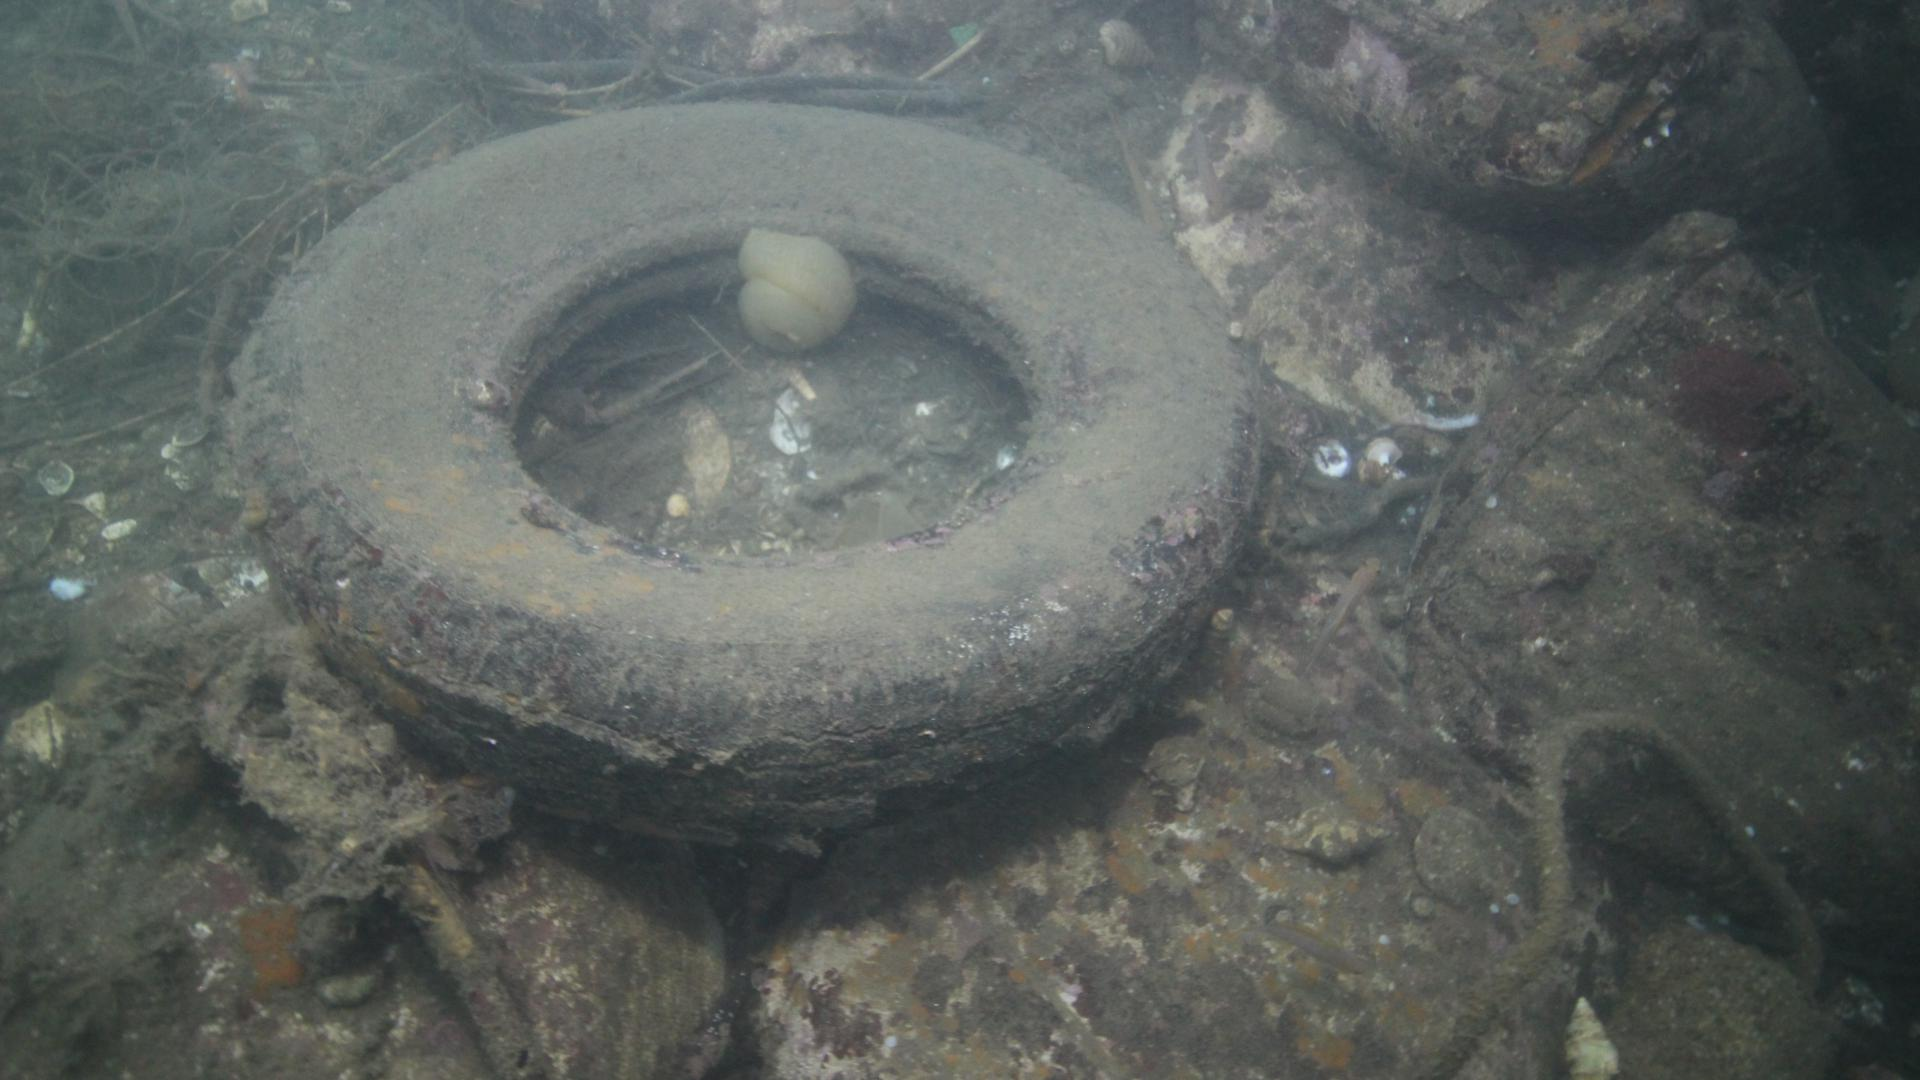rope: (1393, 694, 1840, 1080)
tire: (232, 99, 1263, 847)
